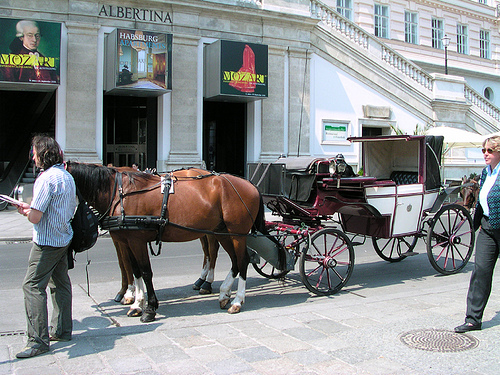horse: (63, 159, 285, 321)
